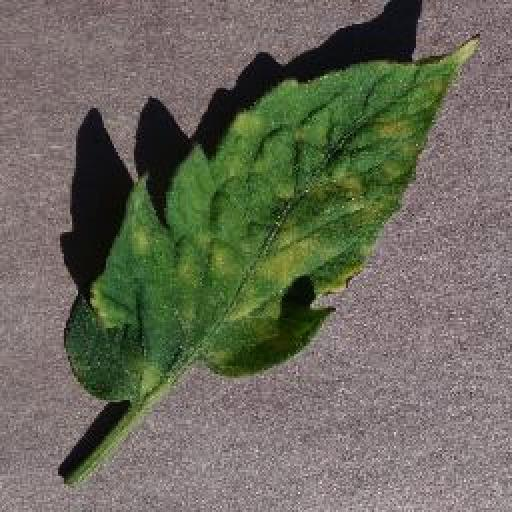disease_tomato: (66, 31, 480, 405)
